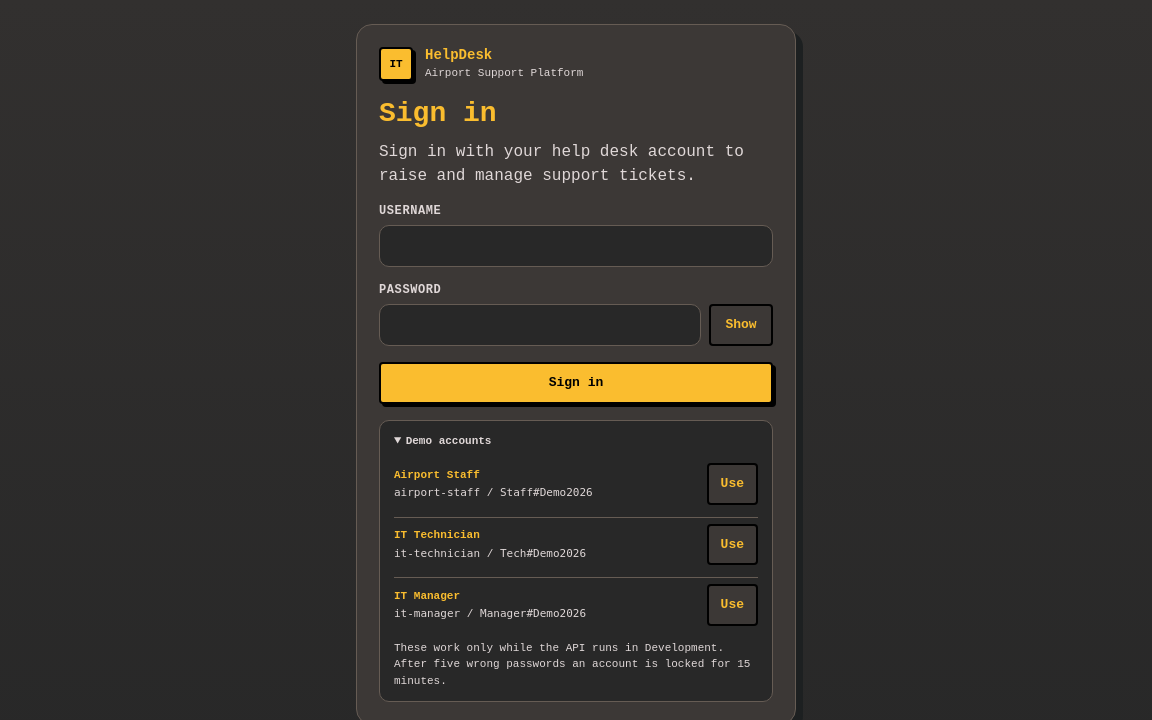
Dashboard export — AC1 choosing what to export › EXP-C01 Export opens a panel with the three file choices; Metric summary is selected and focused
The image size is (1152, 720).
Type "it-manager" into the field labelled "Username" at (576, 246), box [379,225,773,267]
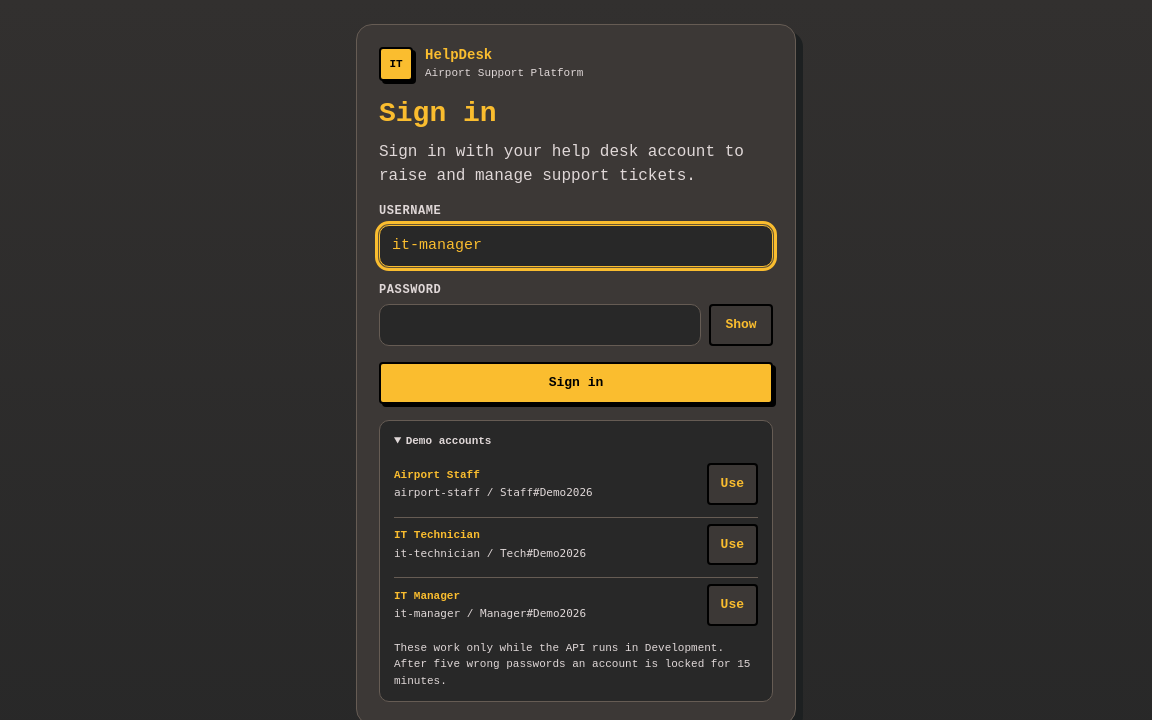
Type "any-password" into the password field labelled "Password" at (540, 325), box [379,304,701,346]
Then press Enter
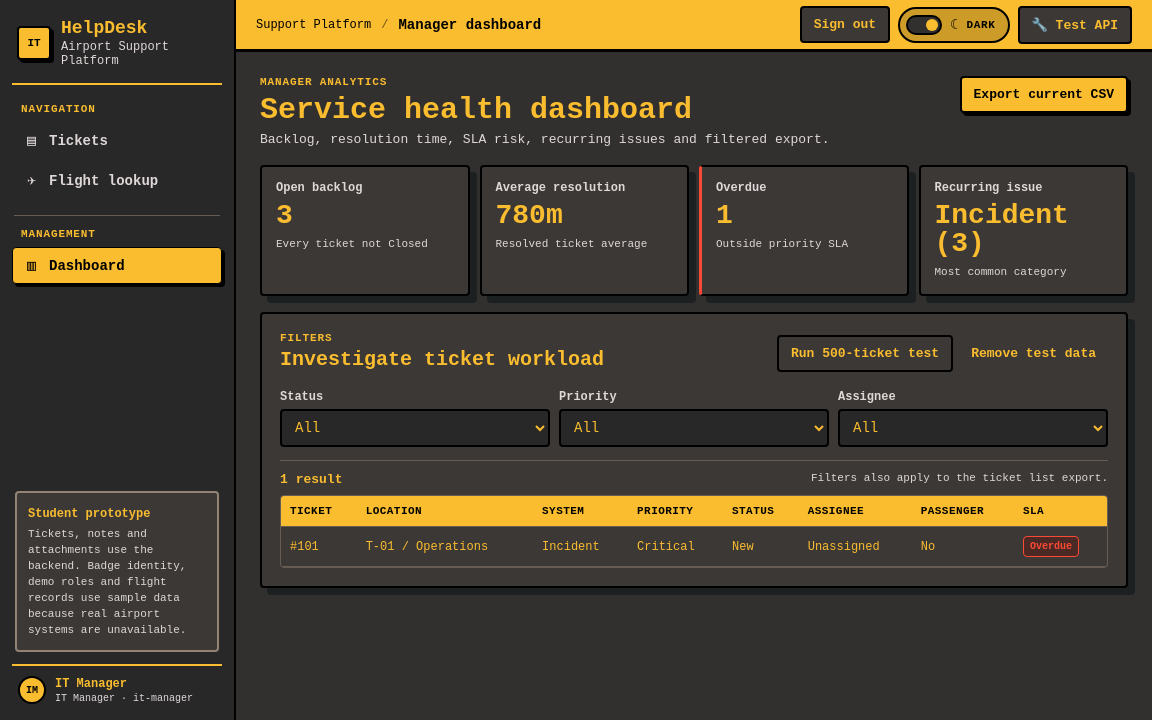
expect the heading "Service health dashboard" is shown: met, box [260,93,692,127]
expect the button "Export current CSV" is collapsed: met
Click the button "Export current CSV" at (1044, 94), box [960,76,1128,113]
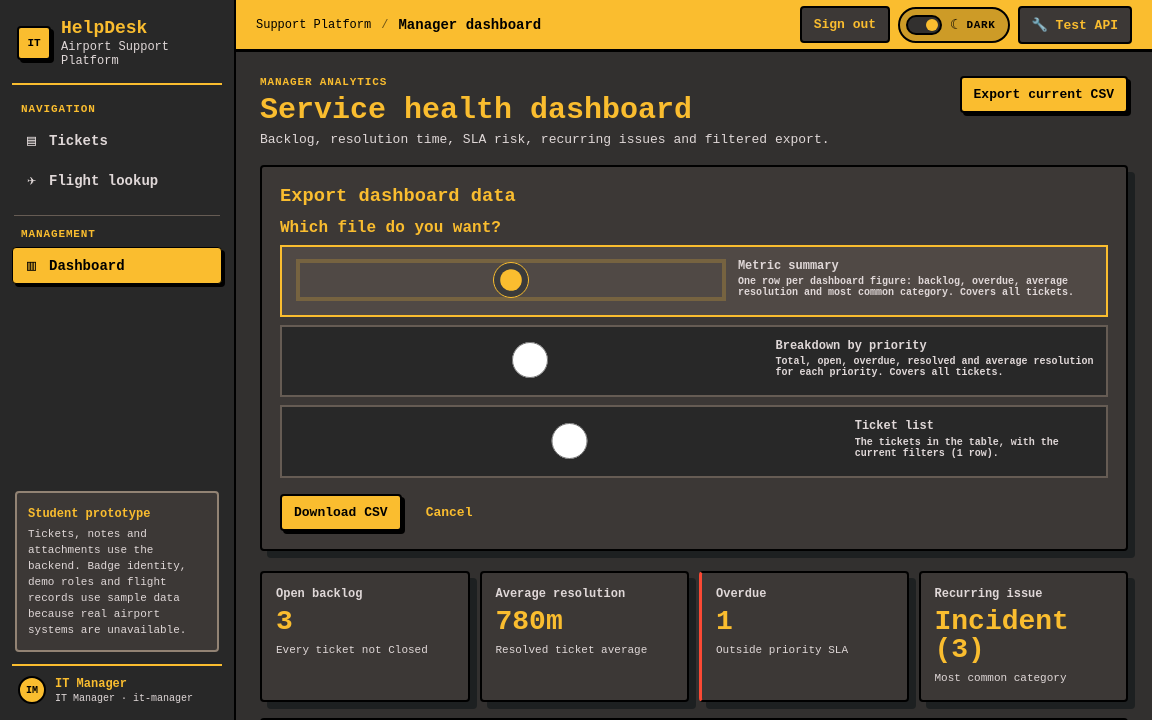
expect the radio button labelled "Metric summary" is checked: met, box [299,262,723,298]
